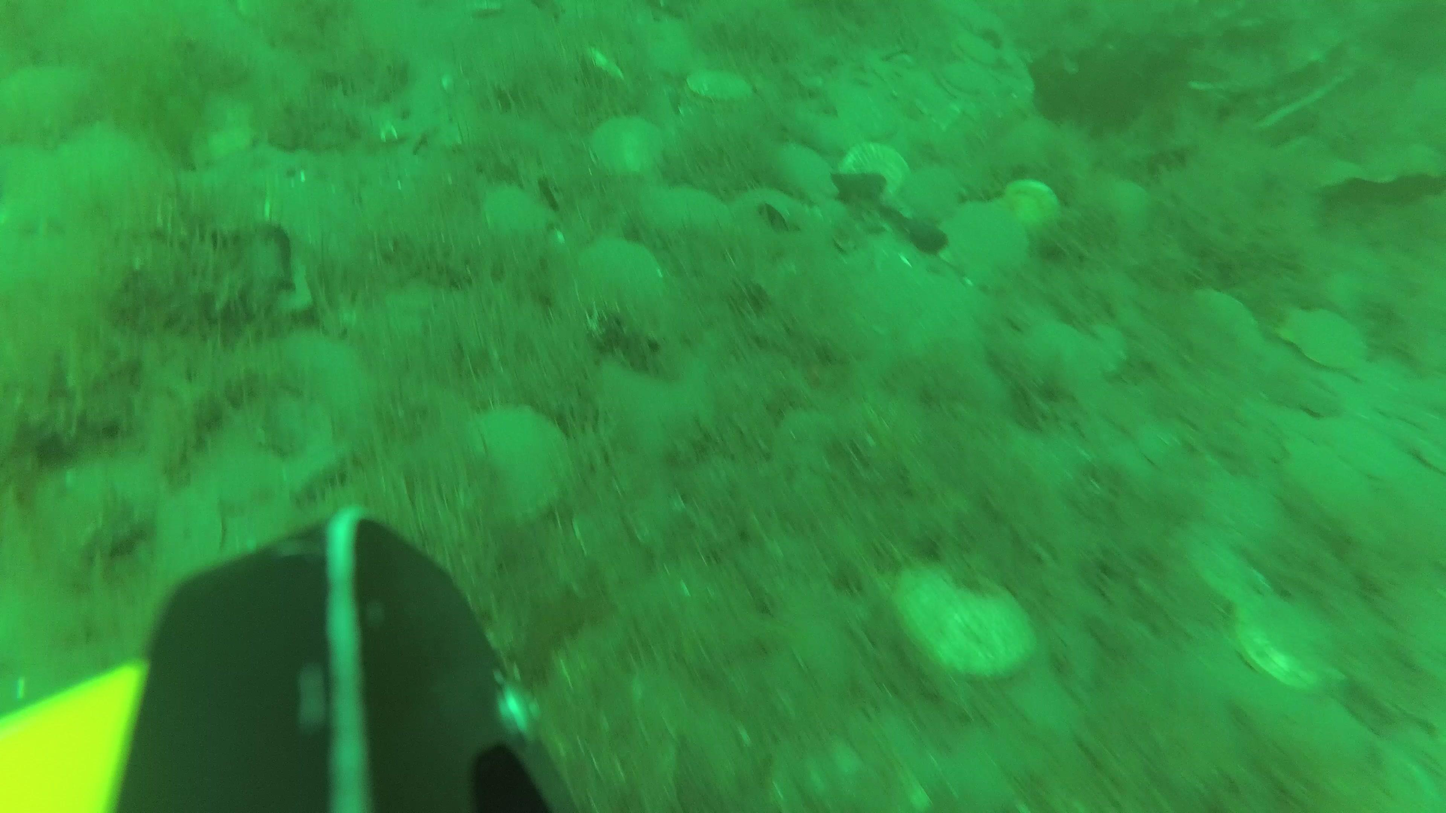scallop: (895, 566, 1033, 687), (450, 407, 573, 528), (61, 123, 185, 237), (272, 151, 381, 260), (1235, 593, 1356, 689), (193, 141, 300, 231), (1019, 314, 1130, 391), (792, 76, 891, 156), (935, 201, 1026, 288), (1282, 437, 1370, 519), (577, 244, 668, 322), (732, 190, 830, 261), (646, 187, 740, 259), (1316, 409, 1402, 480), (153, 493, 228, 571), (629, 12, 712, 82), (1280, 308, 1370, 370), (589, 111, 666, 176), (836, 143, 911, 204), (897, 166, 964, 224), (775, 138, 835, 202), (483, 187, 553, 241), (688, 62, 754, 109), (940, 57, 995, 101)
